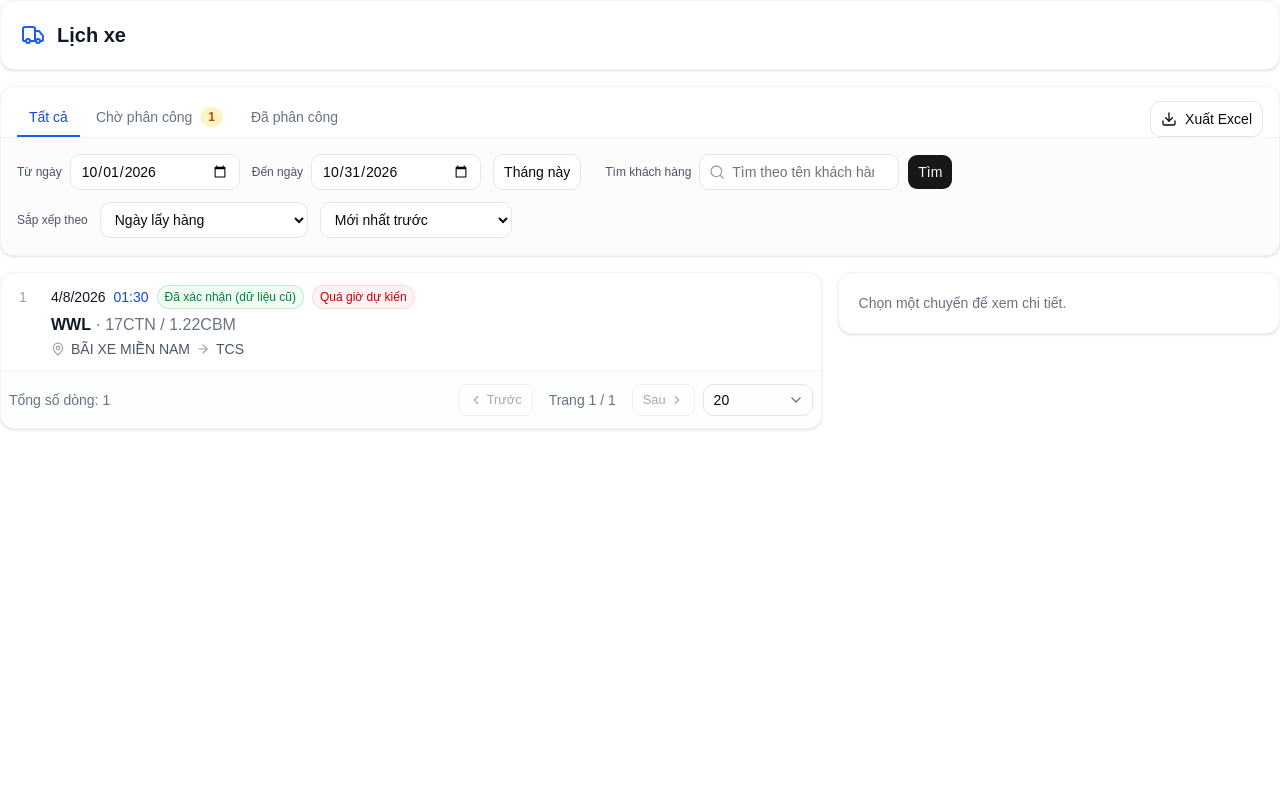
TripSchedulePage › ★ dispatch — the lorries and their drivers (ADR-0004) › ★ shows a freshly added lorry in the open panel without closing it
Click the button "WWL" at {"x": 78, "y": 297}, box x1=19 y1=285 x2=805 y2=359
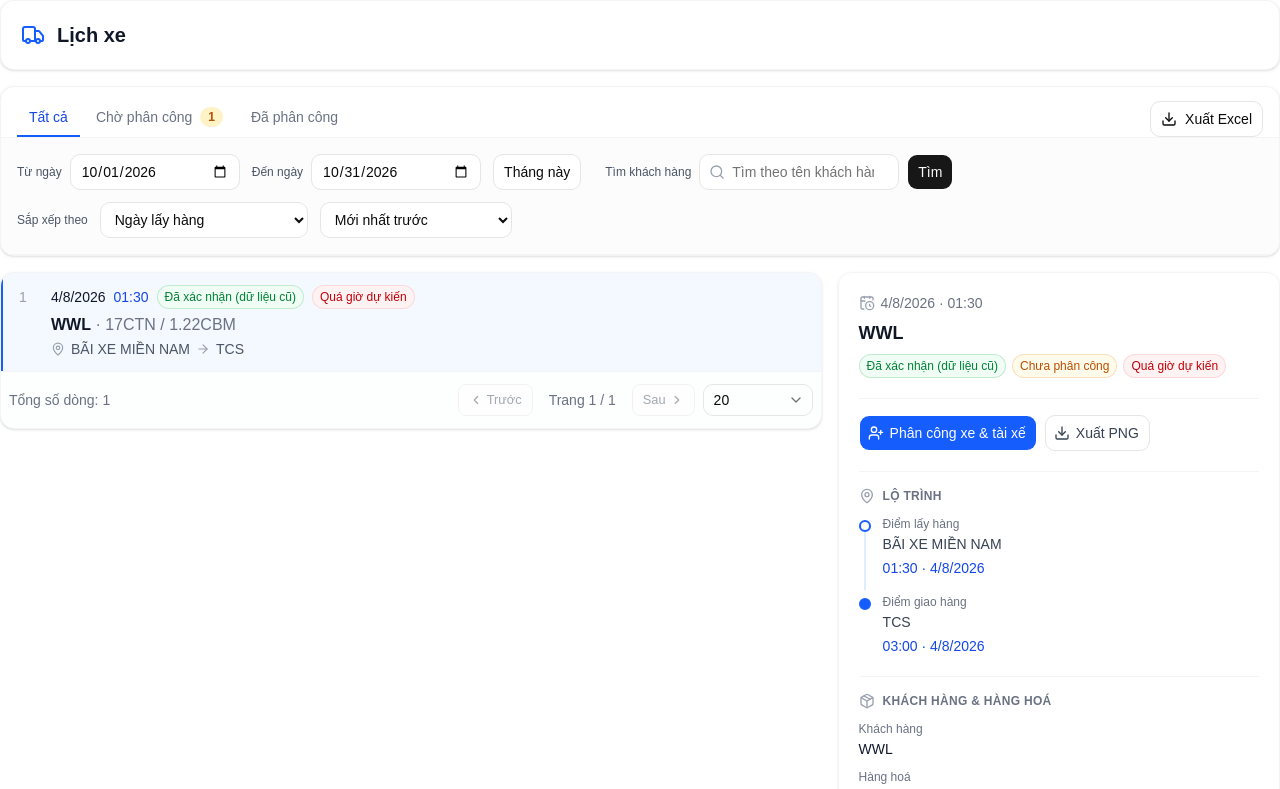
Click the button "Phân công xe & tài xế" at {"x": 948, "y": 433}, box x1=859 y1=415 x2=1037 y2=451
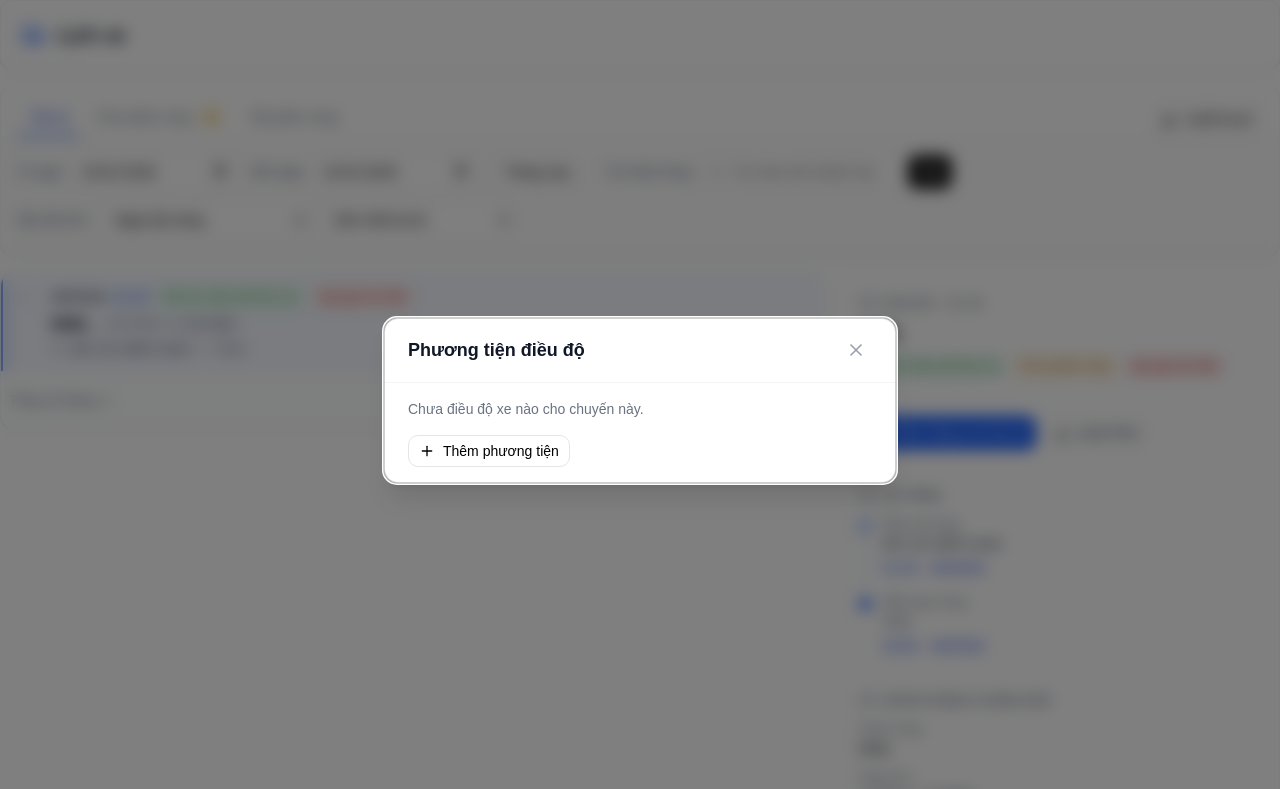
Expected: the text "50H-49266" is not shown
Click the button "Thêm phương tiện" at {"x": 489, "y": 450}, box x1=408 y1=434 x2=570 y2=466
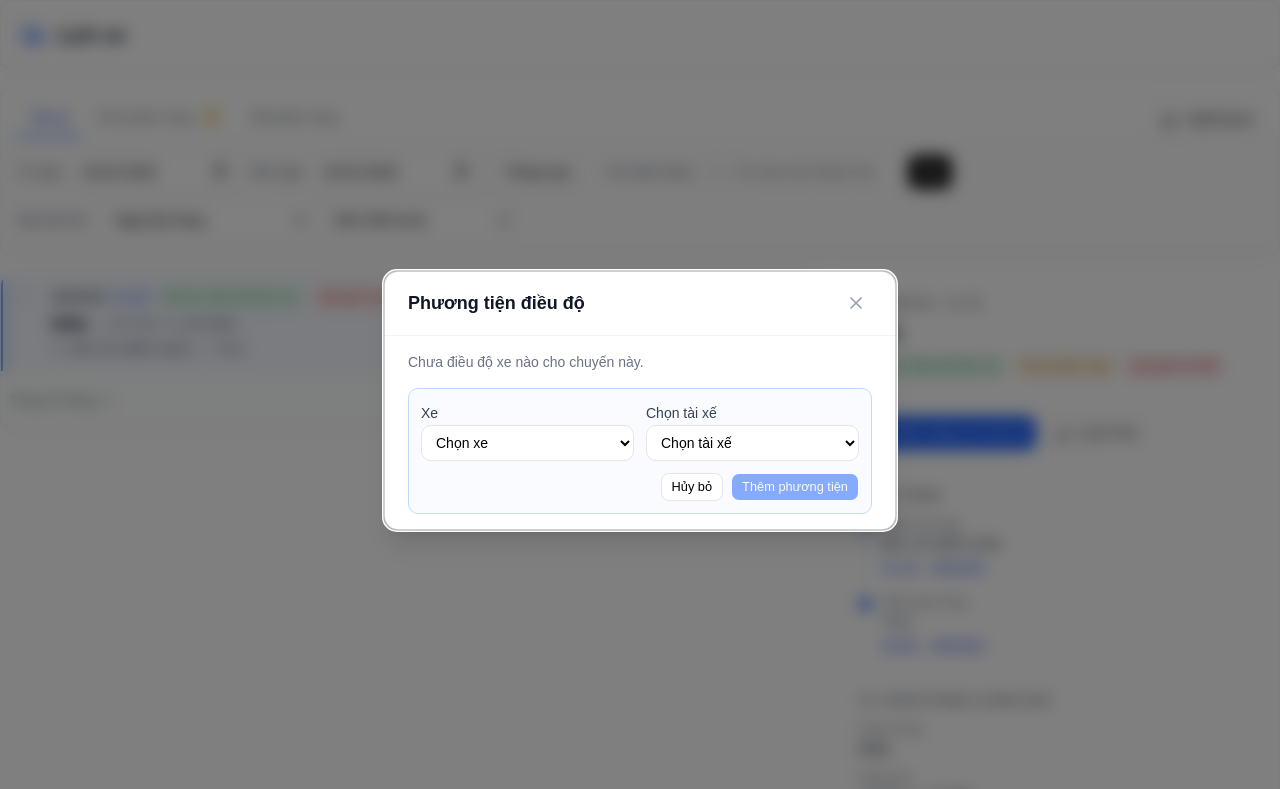
Select "50H-49266" in the dropdown labelled "Xe" at {"x": 528, "y": 442}, box x1=421 y1=424 x2=634 y2=460
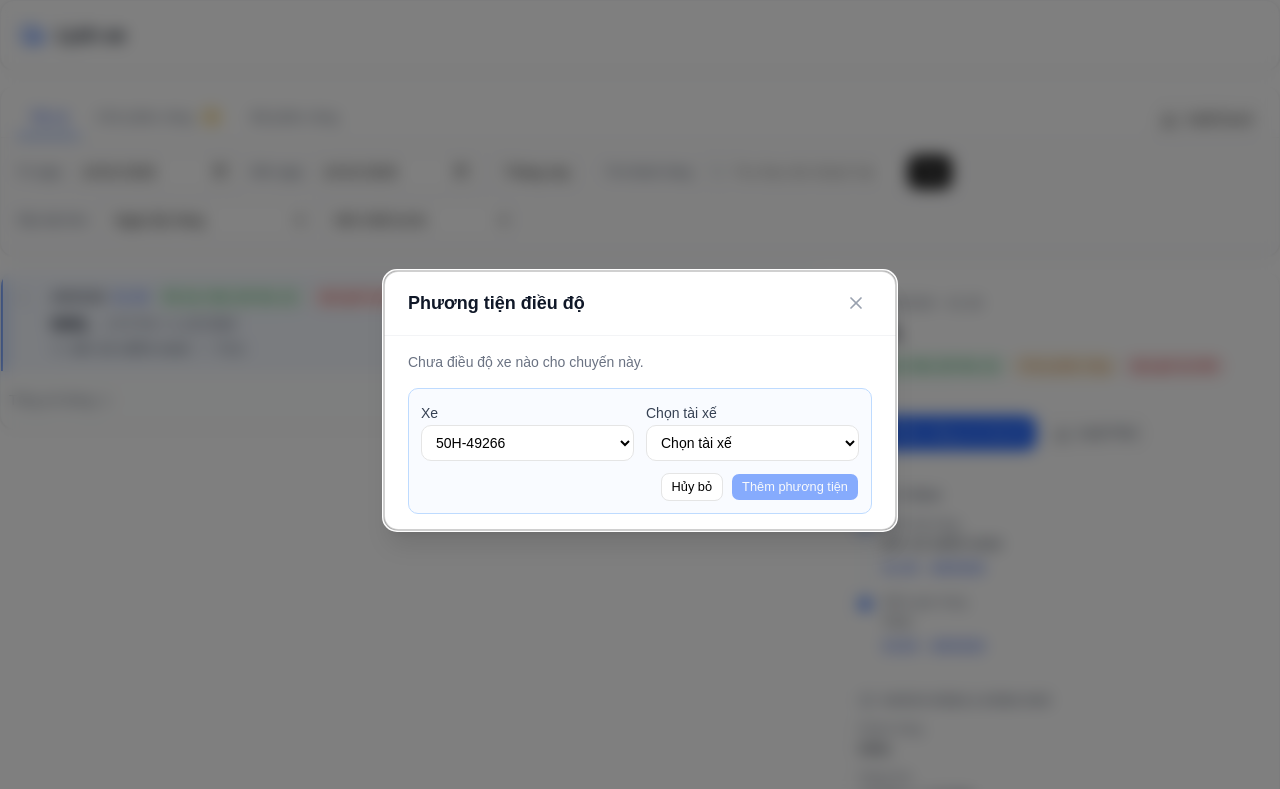
Select "Tài Xế B" in the dropdown labelled "Chọn tài xế" at {"x": 752, "y": 442}, box x1=646 y1=424 x2=859 y2=460
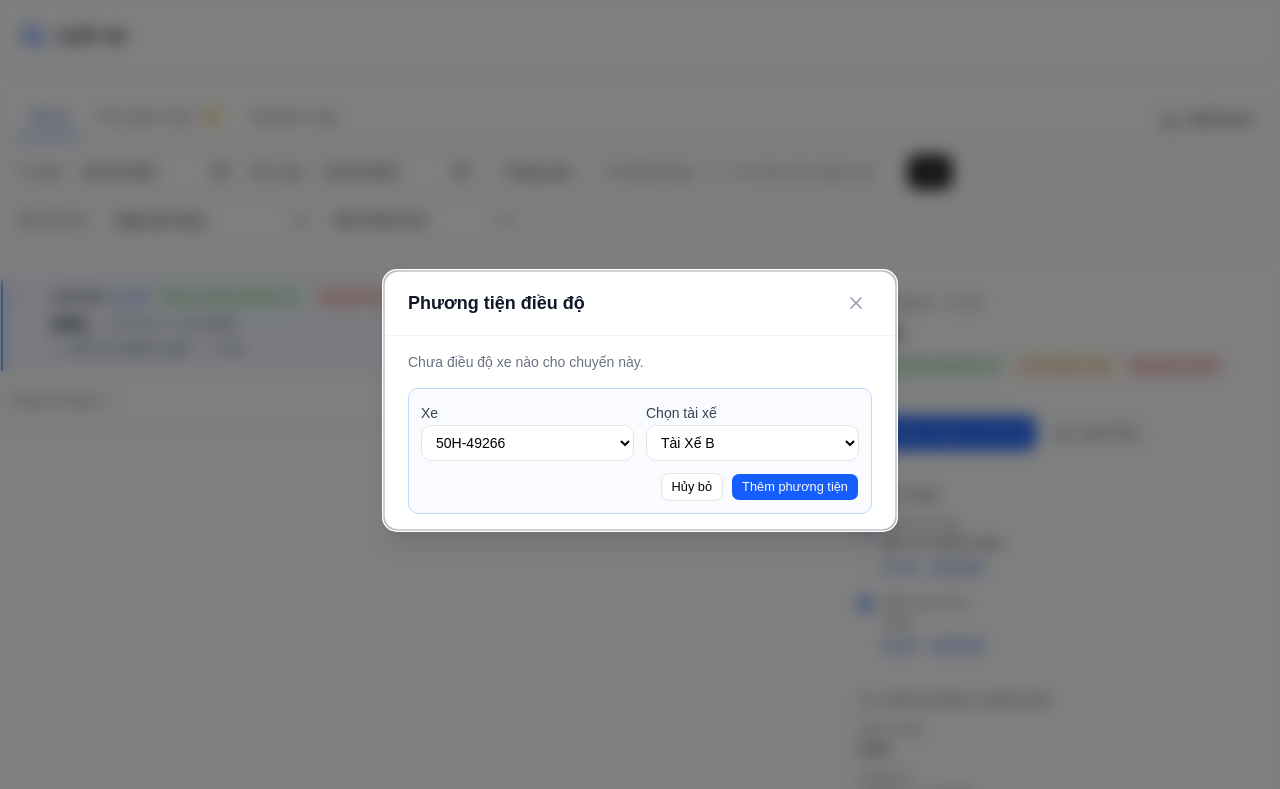
Click the button "Thêm phương tiện" at {"x": 795, "y": 486}, box x1=731 y1=472 x2=859 y2=500
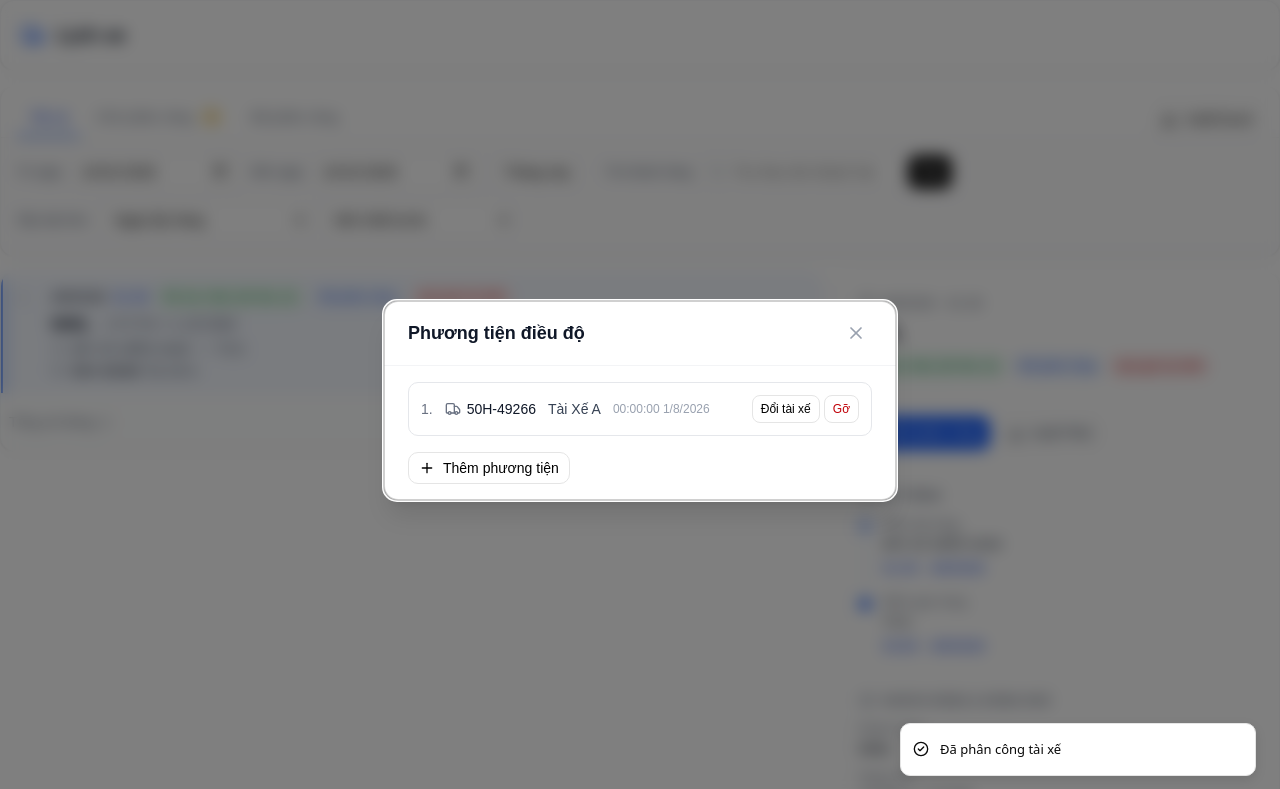
Expected: the text "50H-49266" is shown, x1=445 y1=398 x2=536 y2=418
Expected: the text "Tài Xế A" is shown, x1=548 y1=398 x2=601 y2=418
